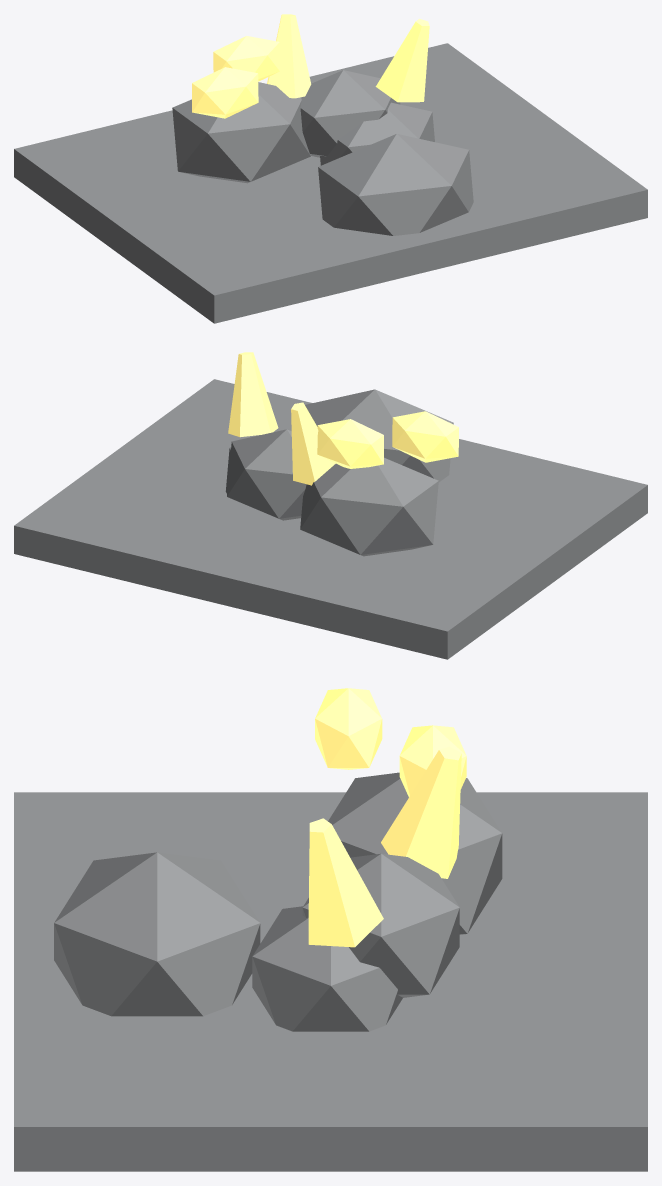
File: gravewood_gold_fragment.lod1.glb
3 views of the same model, one above another, from view 1: azimuth 30°, elevation 25°; view 2: azimuth 150°, elevation 25°; view 3: azimuth 270°, elevation 25° (orthographic). The views are drawn at different scales.
Size of the model in its own units: 2.25 by 0.8843 by 1.8.
